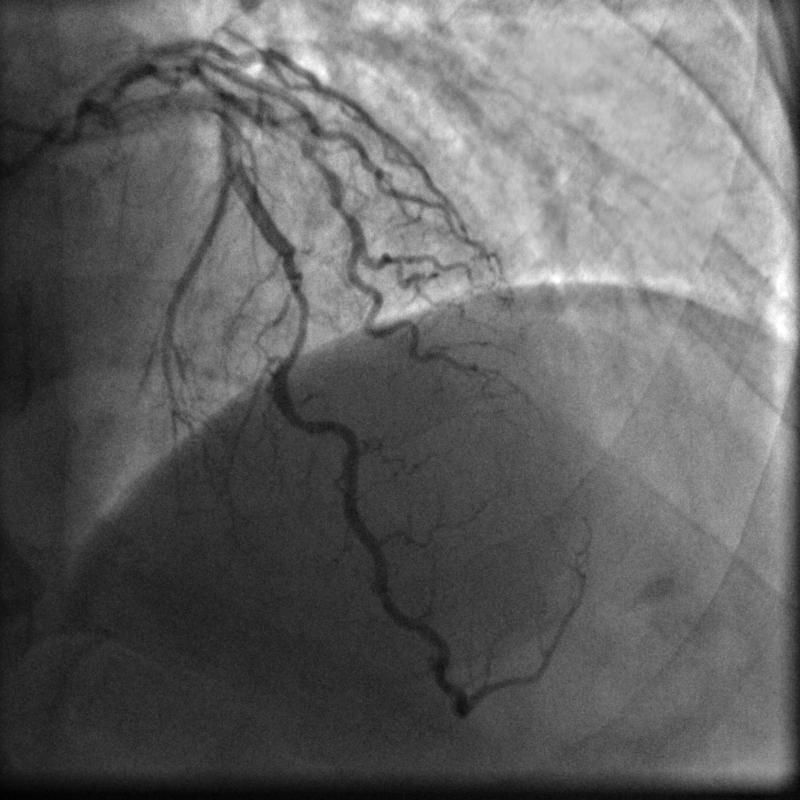Stenosis: (278, 262, 307, 361)
